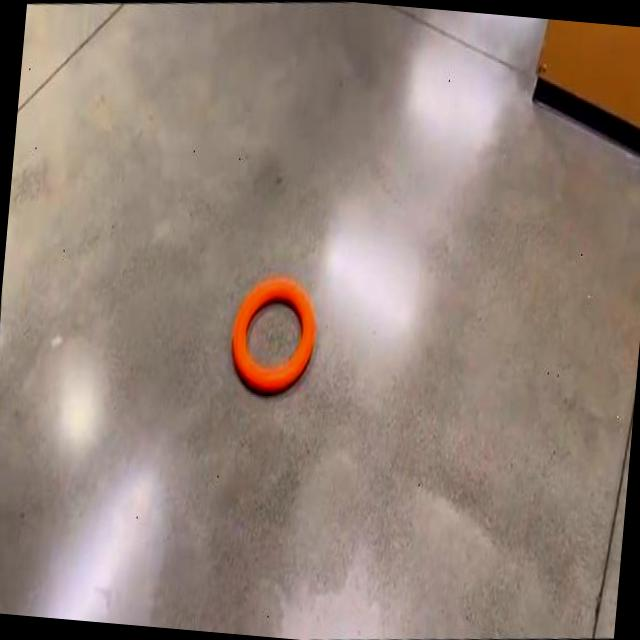note: (232, 278, 314, 390)
